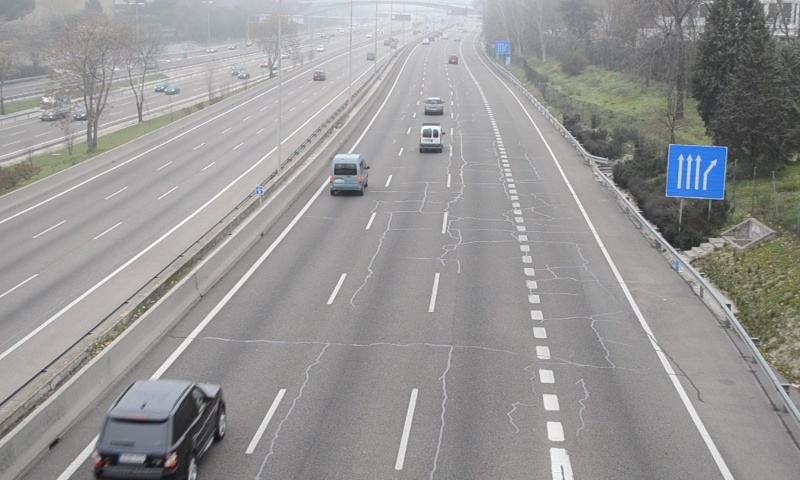car: (91, 378, 224, 480), (424, 96, 444, 114)
van: (330, 153, 369, 193), (419, 121, 444, 154)
